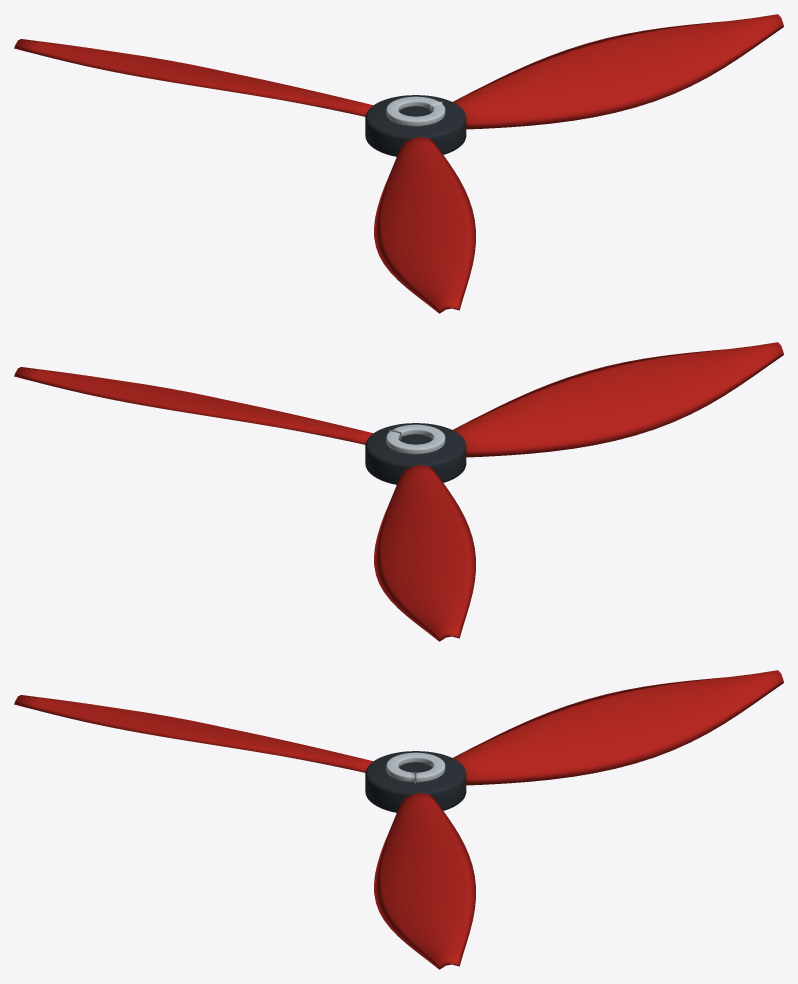
Rendered from SM_PropellerCCW.glb.
The picture shows the model from 3 angles, top to bottom: view 1: azimuth 30°, elevation 25°; view 2: azimuth 150°, elevation 25°; view 3: azimuth 270°, elevation 25°; orthographic projection.
Visible parts, largest first — view 1: SM_PropellerCCW; view 2: SM_PropellerCCW; view 3: SM_PropellerCCW.
Part boxes in pixels (box(x1,y1,x2,y2)): SM_PropellerCCW: box(14, 14, 783, 313); SM_PropellerCCW: box(14, 342, 783, 641); SM_PropellerCCW: box(14, 670, 783, 969).
Size of the model in its own units: 0.0825 by 0.00433 by 0.0913.
